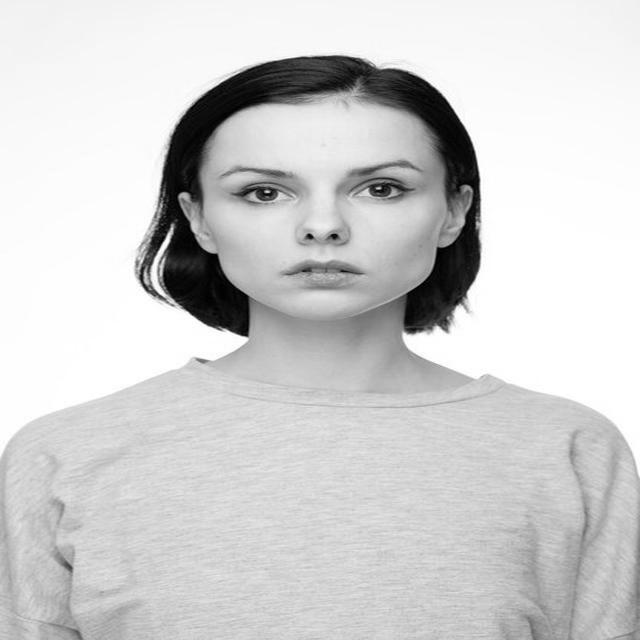Neutral: (204, 105, 445, 320)
